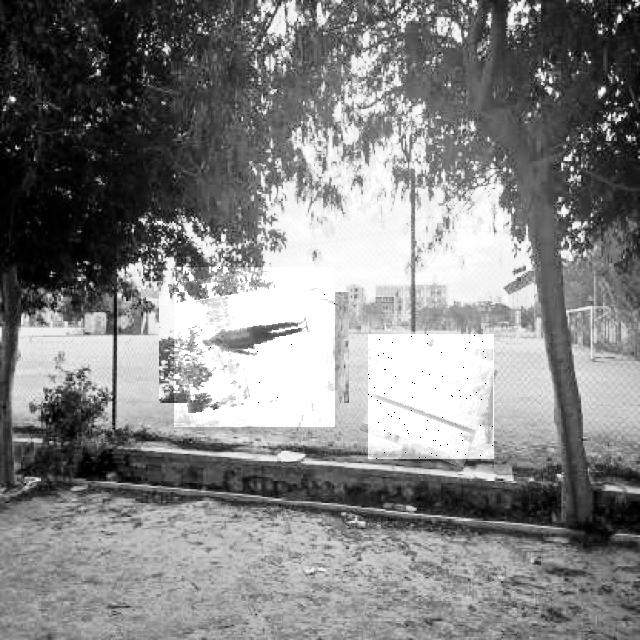anomaly-fence: (174, 267, 335, 427), (368, 334, 494, 459)
